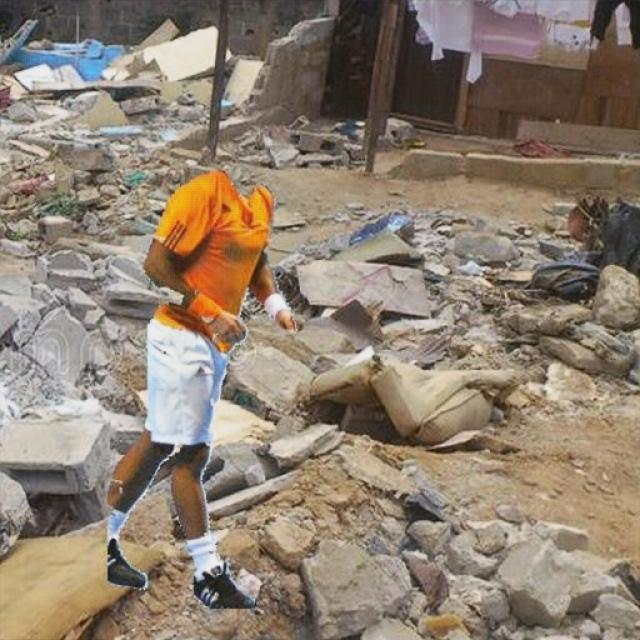Person in Rubble: (108, 172, 296, 608)
